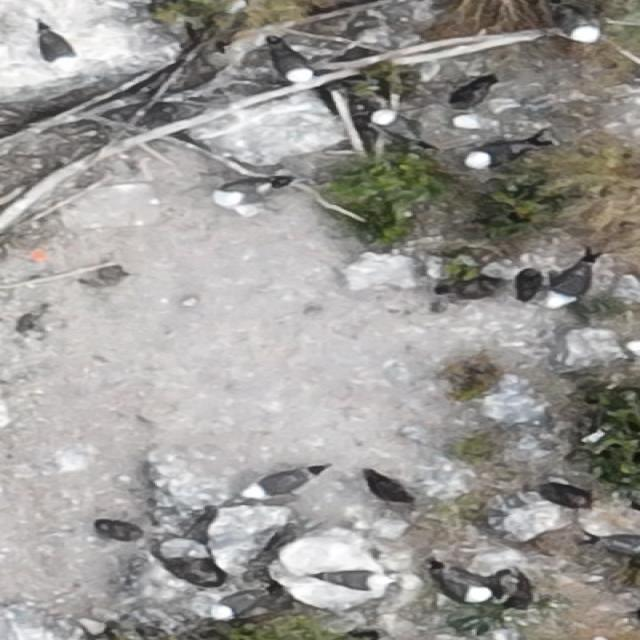umineko: (244, 467, 318, 501), (544, 262, 595, 309), (212, 176, 284, 209), (212, 588, 276, 621), (372, 110, 429, 146), (438, 566, 492, 604), (310, 570, 396, 592), (274, 42, 314, 84), (40, 28, 78, 71), (556, 8, 602, 43), (454, 112, 504, 131), (477, 146, 517, 165), (102, 522, 140, 539)
